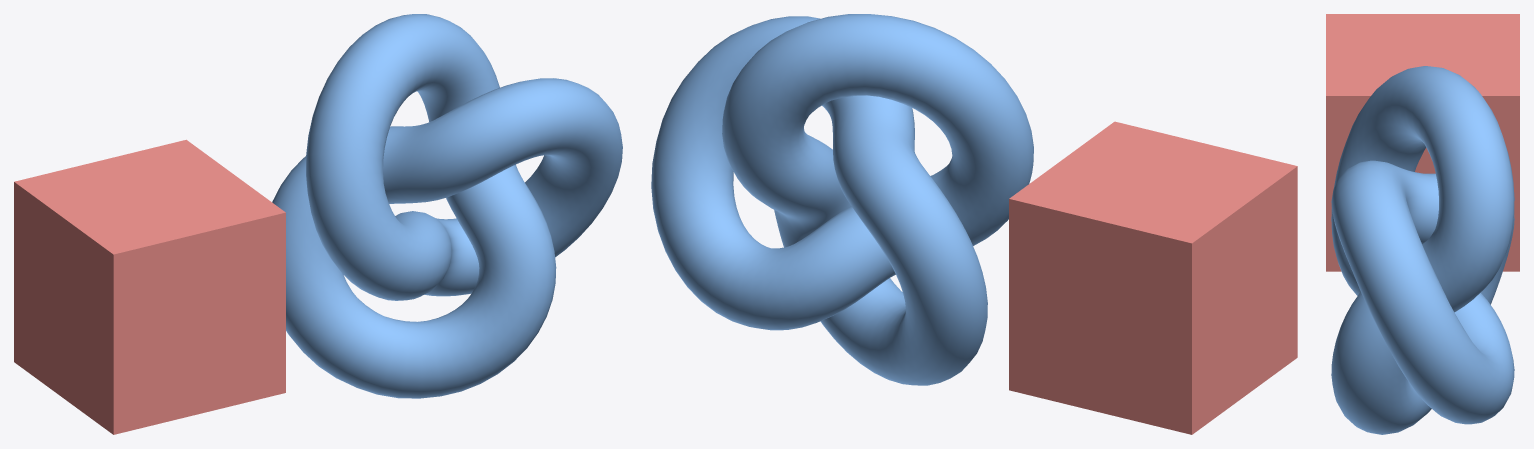
Rendered from sample.glb.
3 renders of one model, left to right at view 1: azimuth 30°, elevation 25°; view 2: azimuth 150°, elevation 25°; view 3: azimuth 270°, elevation 25°, orthographic. The views are drawn at different scales.
Parts seen in each view (by area): view 1: TorusKnot, Cube; view 2: TorusKnot, Cube; view 3: TorusKnot, Cube.
Part boxes in pixels (x1,y1,x2,y2): TorusKnot: (272, 14, 622, 398); Cube: (14, 139, 285, 434); TorusKnot: (651, 14, 1033, 385); Cube: (1009, 121, 1297, 434); TorusKnot: (1331, 66, 1514, 434); Cube: (1326, 14, 1519, 271).
Size of the model in its own units: 5.75 by 3.53 by 1.8.
